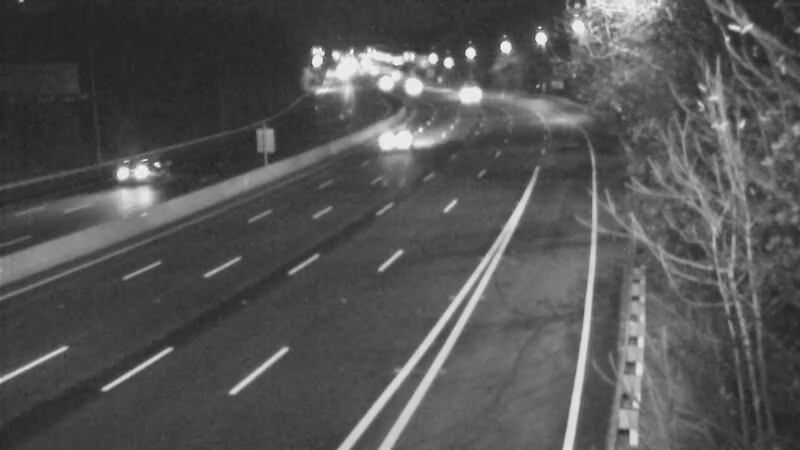vehicle: (106, 128, 186, 208), (385, 63, 435, 113), (439, 68, 489, 118), (369, 119, 419, 169)
